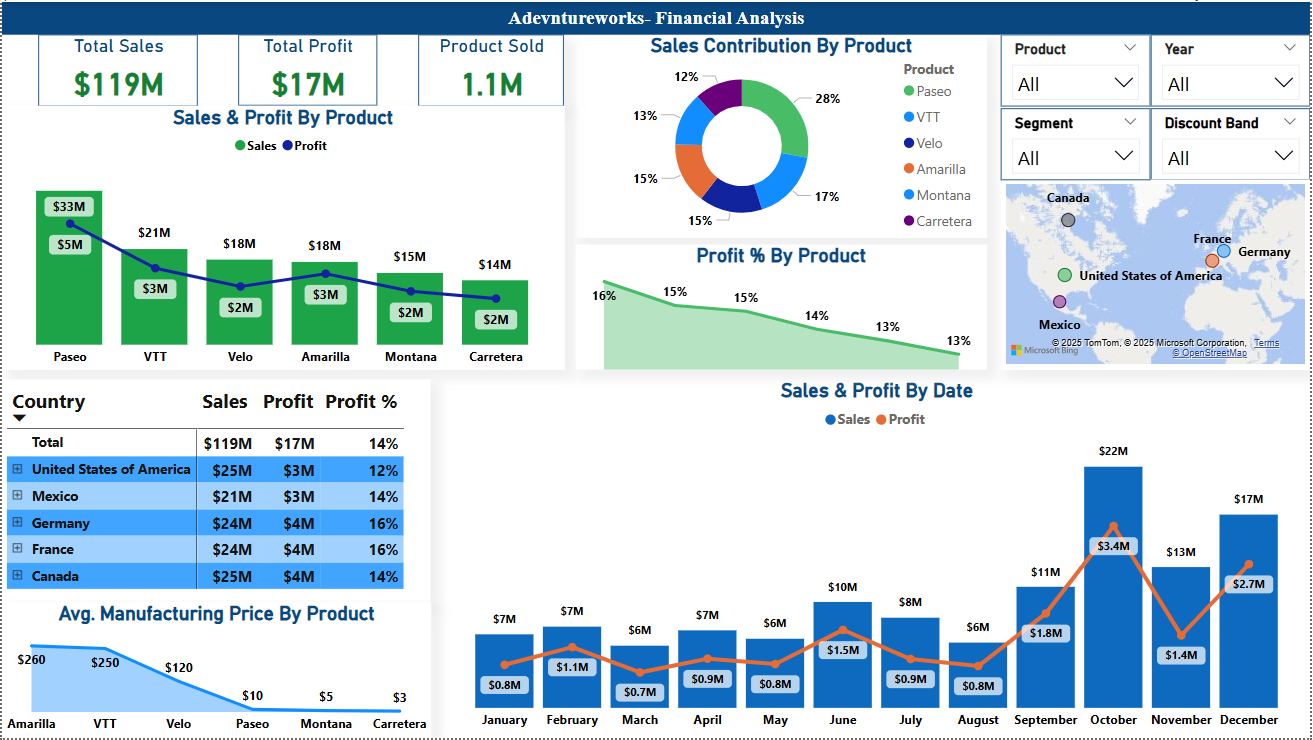

This screenshot's page, from the dashboard's own definition file:
{"tool":"powerbi","page":{"name":"Dashboard","canvas":[1280,720],"ordinal":0},"visuals":[{"type":"lineClusteredColumnComboChart","title":"Sales & Profit By Date","fields":{"Category":["Raw Data.Date.Variation.Date Hierarchy.Month","Raw Data.Date.Variation.Date Hierarchy.Day"],"Y":["Sum(Raw Data. Sales)"],"Y2":["Sum(Raw Data.Profit)"]},"box":[431.7,369.3,848.6,351],"z":0},{"type":"donutChart","title":"Sales Contribution By Product","fields":{"Y":["Sum(Raw Data. Sales)"],"Category":["Raw Data.Product"]},"box":[561.3,31.8,402.3,199.3],"z":1000},{"type":"card","title":"Total Sales","fields":{"Values":["Sum(Raw Data. Sales)"]},"box":[35,31.2,156.2,70],"z":2000},{"type":"card","title":"Total Profit","fields":{"Values":["Sum(Raw Data.Profit)"]},"box":[231.1,31.8,135.7,69.7],"z":3000},{"type":"card","title":"Product Sold","fields":{"Values":["Sum(Raw Data.Units Sold)"]},"box":[407.5,31.2,142.5,70],"z":4000},{"type":"slicer","fields":{"Values":["Raw Data.Year"]},"box":[1124,31.5,156,70],"z":5000},{"type":"textbox","box":[0,0,1279.9,31.8],"z":6000},{"type":"lineClusteredColumnComboChart","title":"Sales & Profit By Product","fields":{"Y2":["Sum(Raw Data.Profit)"],"Y":["Sum(Raw Data. Sales)"],"Category":["Raw Data.Product"]},"box":[0,101.2,550,258.8],"z":7000},{"type":"slicer","fields":{"Values":["Raw Data.Discount Band"]},"box":[1124,104,156,70],"z":8000},{"type":"slicer","fields":{"Values":["Raw Data.Product"]},"box":[977.5,31.2,146.2,70],"z":9000},{"type":"map","fields":{"Category":["Raw Data.Country"],"Size":["Sum(Raw Data. Sales)"]},"box":[977.5,173.8,302.5,186.2],"z":10000},{"type":"pivotTable","title":"Sales Contribution By Product","fields":{"Rows":["Raw Data.Country","Raw Data.Product"],"Values":["Sum(Raw Data. Sales)","Sum(Raw Data.Profit)","Raw Data.Profit %"]},"box":[0,369.3,419.4,217.7],"z":11000},{"type":"slicer","fields":{"Values":["Raw Data.Segment"]},"box":[977.5,104,146.5,70],"z":12000},{"type":"areaChart","title":"Avg. Manufacturing Price By Product","fields":{"Category":["Raw Data.Product"],"Y":["Avg(Raw Data.Manufacturing Price)"]},"box":[0,587.5,420,132.5],"z":13000},{"type":"areaChart","title":"Profit % By Product","fields":{"Category":["Raw Data.Product"],"Y":["Raw Data.Profit %"]},"box":[561.3,237.2,402.3,122.3],"z":14000}]}

Visuals, with their boxes in screenshot pixels (x1, y1, x2, y2), scaled from the page's 1280x720 canvas onto the 1313x740 screenshot:
"Sales & Profit By Date" lineClusteredColumnComboChart: x1=443 y1=380 x2=1312 y2=739
"Sales Contribution By Product" donutChart: x1=576 y1=33 x2=988 y2=238
"Total Sales" card: x1=36 y1=32 x2=196 y2=104
"Total Profit" card: x1=237 y1=33 x2=376 y2=104
"Product Sold" card: x1=418 y1=32 x2=564 y2=104
slicer - Raw Data.Year: x1=1153 y1=32 x2=1312 y2=104
textbox: x1=0 y1=0 x2=1312 y2=33
"Sales & Profit By Product" lineClusteredColumnComboChart: x1=0 y1=104 x2=564 y2=370
slicer - Raw Data.Discount Band: x1=1153 y1=107 x2=1312 y2=179
slicer - Raw Data.Product: x1=1003 y1=32 x2=1153 y2=104
map - Raw Data.Country x Sum(Raw Data. Sales): x1=1003 y1=179 x2=1312 y2=370
"Sales Contribution By Product" pivotTable: x1=0 y1=380 x2=430 y2=603
slicer - Raw Data.Segment: x1=1003 y1=107 x2=1153 y2=179
"Avg. Manufacturing Price By Product" areaChart: x1=0 y1=604 x2=431 y2=739
"Profit % By Product" areaChart: x1=576 y1=244 x2=988 y2=369
